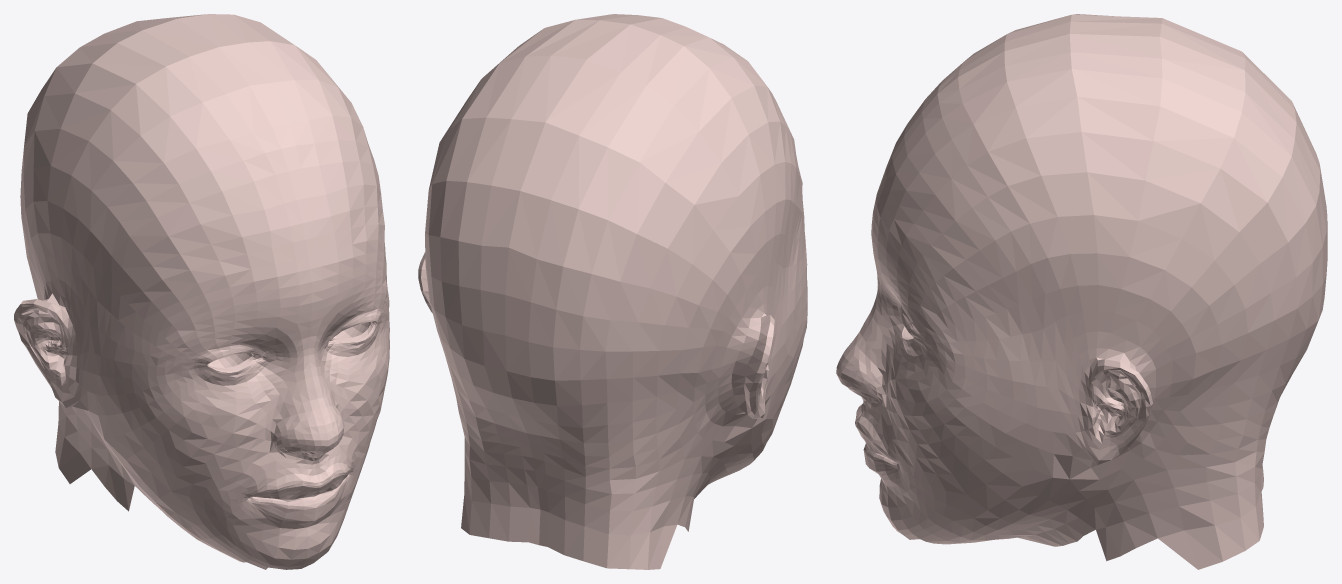
File: aline-face-sculpture-v2.glb
3 renders of one model, left to right at view 1: azimuth 30°, elevation 25°; view 2: azimuth 150°, elevation 25°; view 3: azimuth 270°, elevation 25°, orthographic. The views are drawn at different scales.
Parts seen in each view (by area): view 1: geometry_0; view 2: geometry_0; view 3: geometry_0.
Part boxes in pixels (left/top/right/bottom): geometry_0: left=14, top=14, right=389, bottom=569; geometry_0: left=418, top=14, right=807, bottom=569; geometry_0: left=836, top=14, right=1327, bottom=569.
Size of the model in its own units: 2.99 by 3.9 by 3.53.
